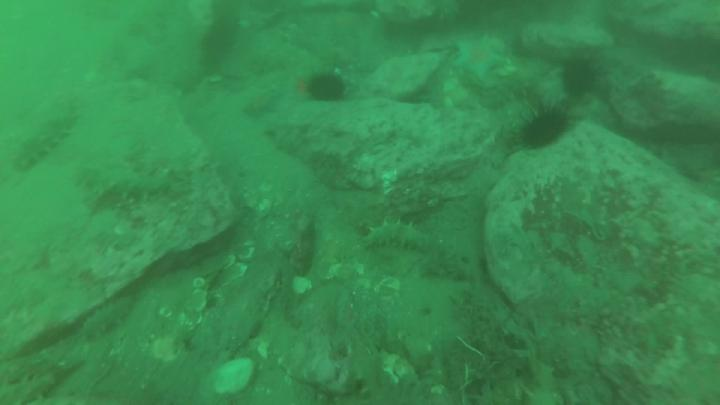echinus: (9, 89, 80, 177), (77, 164, 201, 206), (348, 337, 413, 405), (75, 292, 137, 344), (359, 219, 436, 252), (1, 370, 64, 405)
scallop: (211, 358, 256, 397)
starfish: (513, 105, 571, 154), (560, 53, 599, 103), (204, 20, 243, 64), (304, 69, 350, 106)
